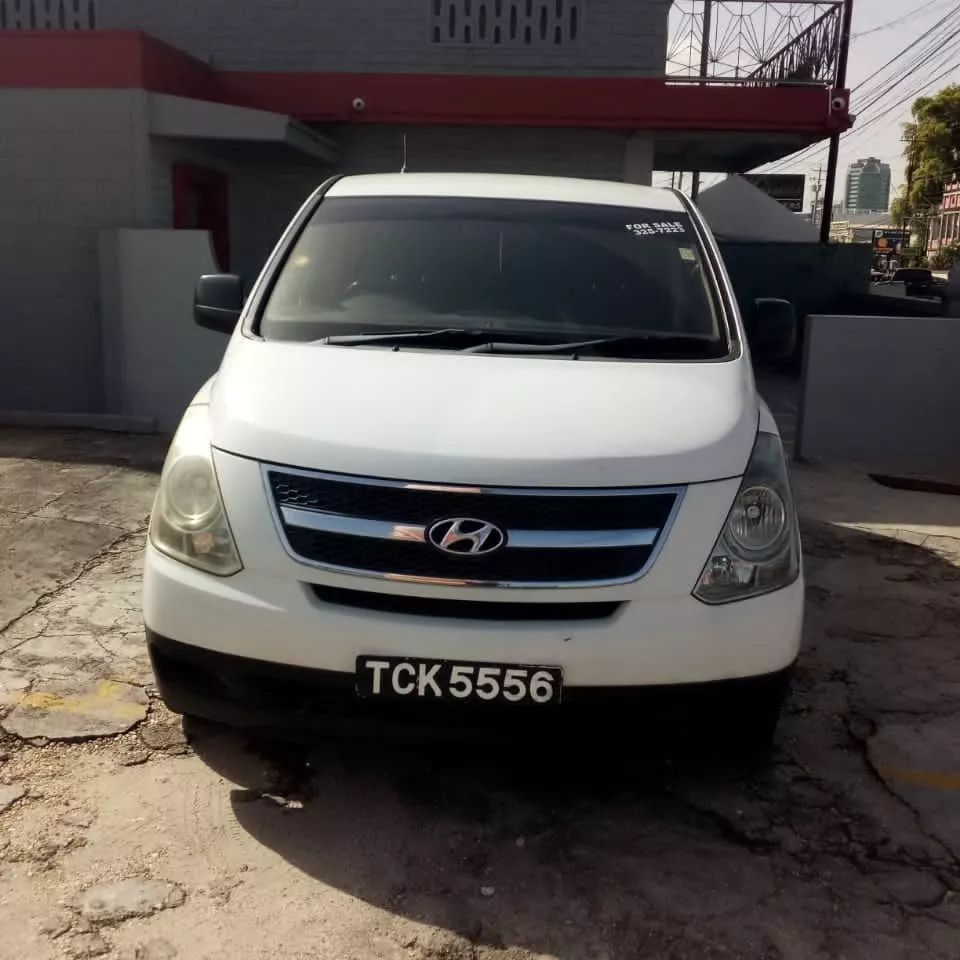License-Plate: (359, 656, 560, 696)
